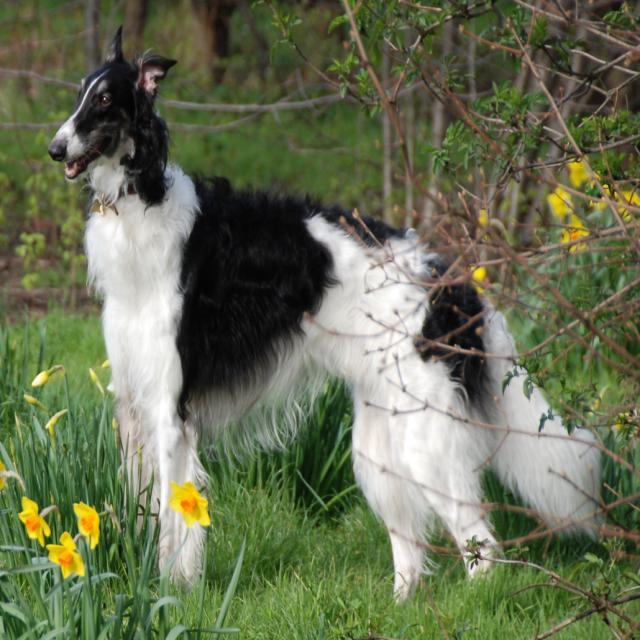dog: (18, 10, 232, 256)
